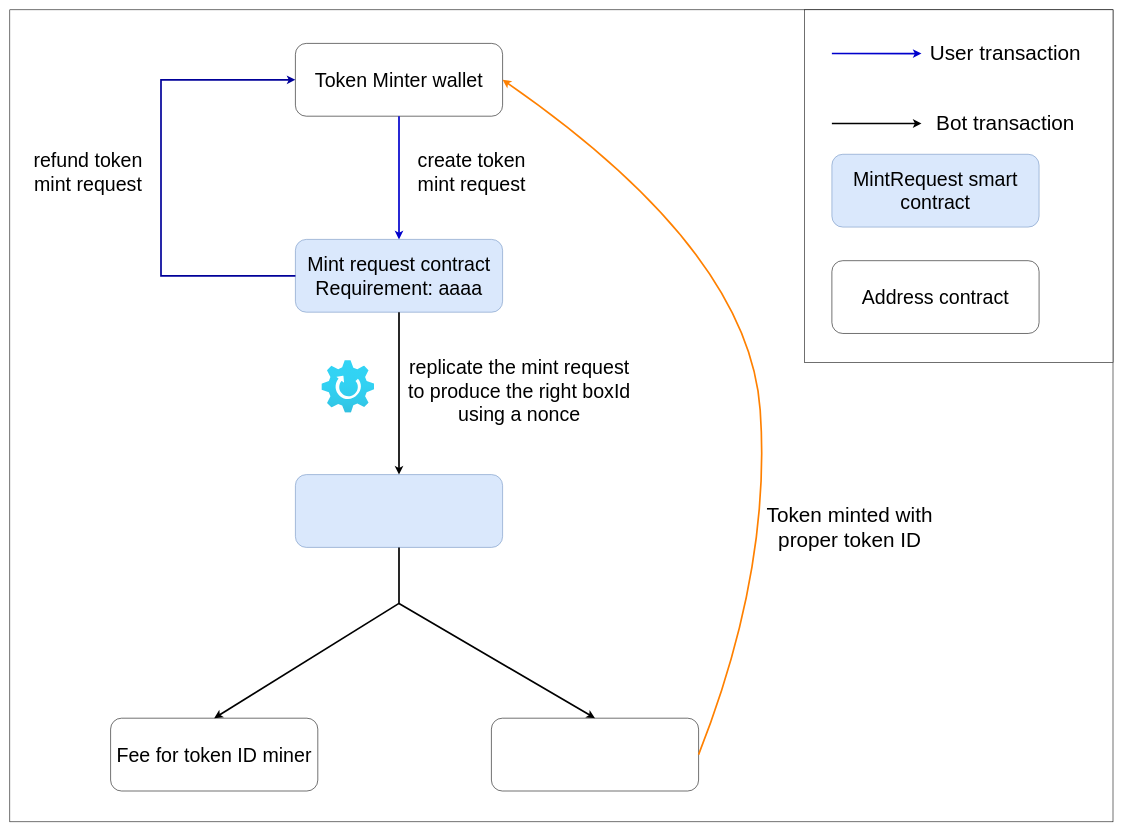
The diagram is 1123 pixels wide and 832 high, and some of its shapes have lost their labels. Each missing label, with the centre of its shape:
"Mint request contract with boxId starting with aaaa" goes at point (399, 510).
"Minter address New token matching the requirement" goes at point (595, 754).
"Token ID mining" goes at point (347, 386).
